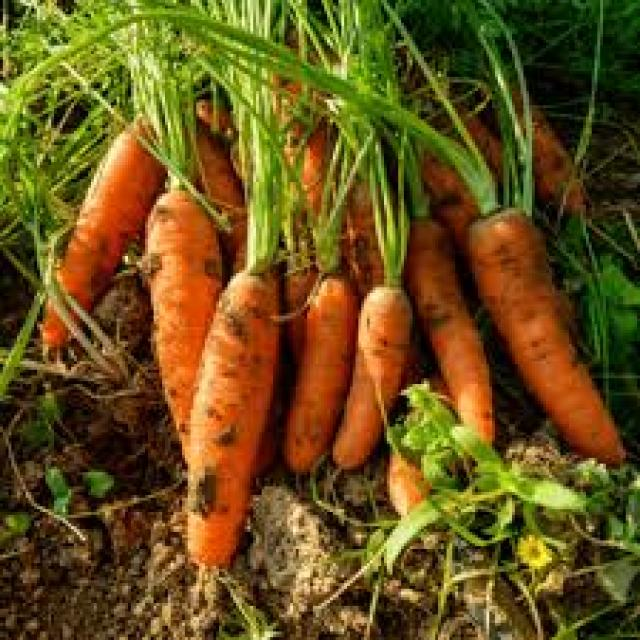Stale_Carrot: (189, 272, 280, 567), (332, 288, 412, 469), (285, 275, 358, 472)
